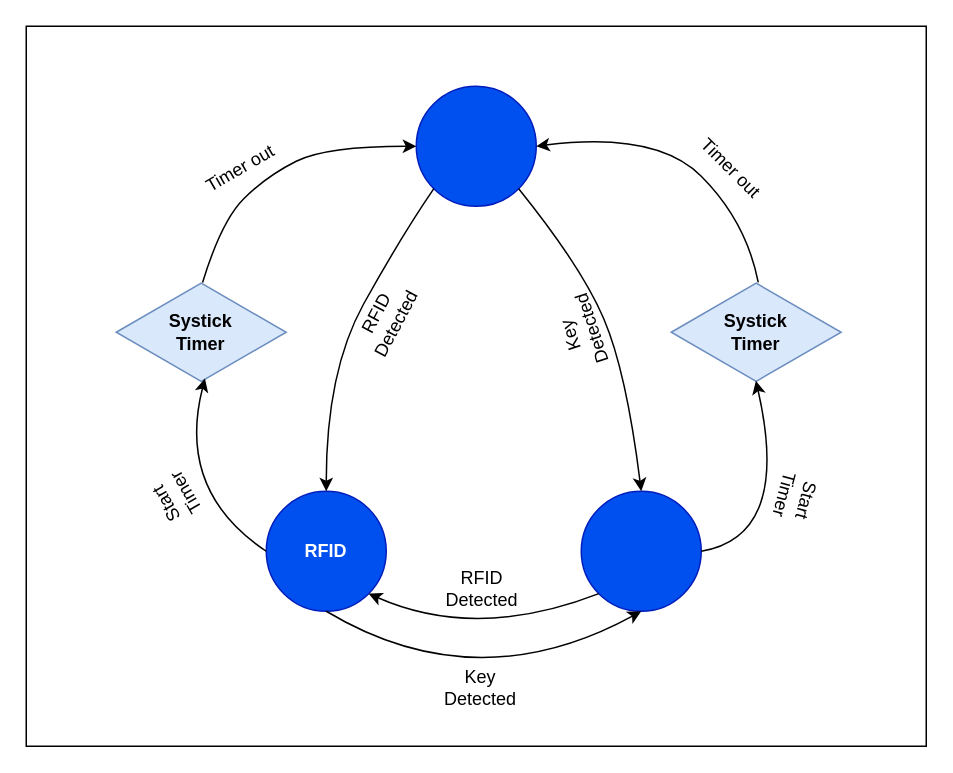
The diagram is 953 pixels wide and 773 high, and some of its shapes have lost their labels. The centre of each missing label's shape, as x and y in pixels:
IDLE: point 475,145
KEY: point 640,550
